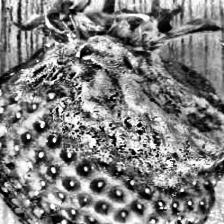Gray Mold: (0, 13, 224, 224)
